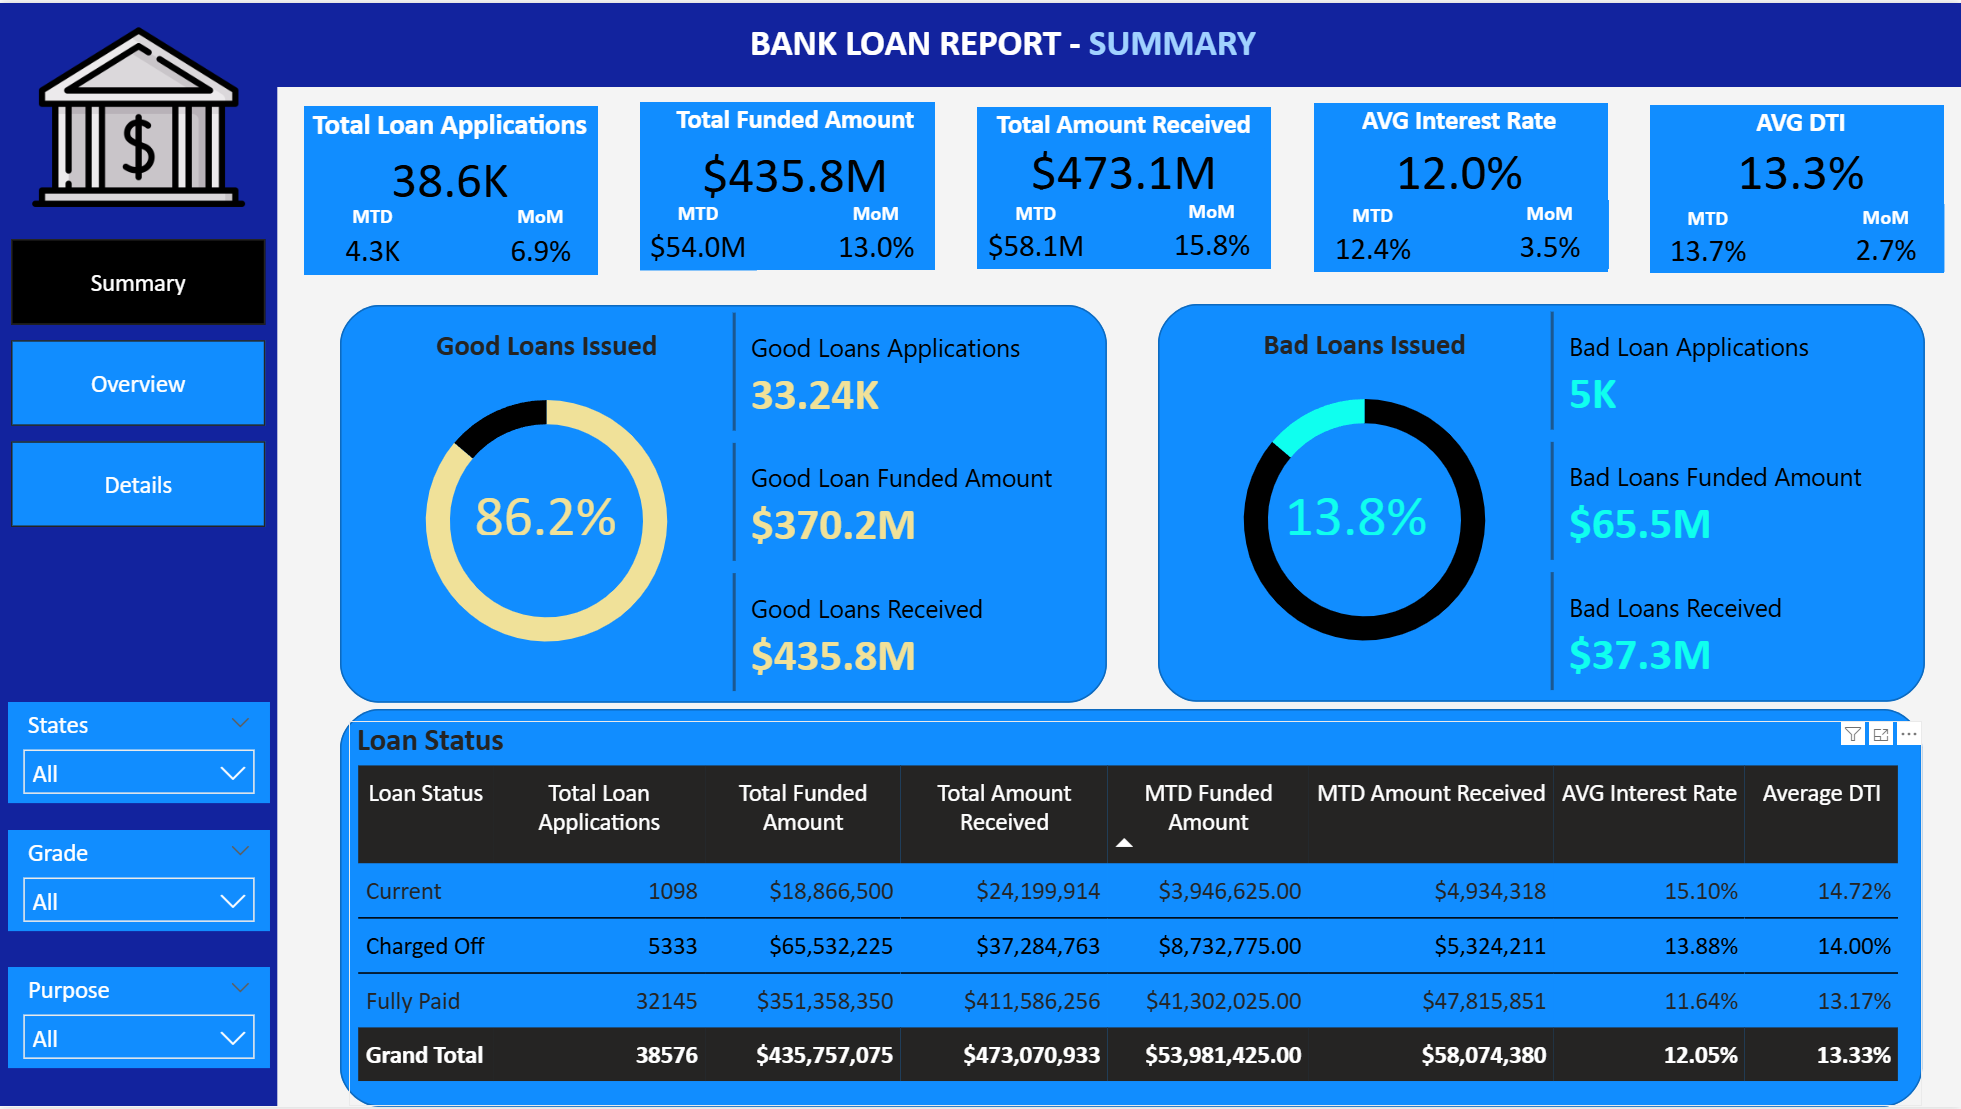

The dashboard page shown, as its layout file describes it:
{"tool":"powerbi","page":{"name":"Summary","canvas":[1280,720],"ordinal":0},"visuals":[{"type":"card","title":"Total Funded Amount","fields":{"Values":["bank_loan_data.Total Funded Amount"]},"box":[429.1,64.4,180.5,70],"z":0,"group":"g2"},{"type":"card","title":"AVG Interest Rate","fields":{"Values":["bank_loan_data.AVG Interest Rate"]},"box":[860.2,65.4,184.4,65],"z":0,"group":"g7"},{"type":"card","title":"AVG DTI","fields":{"Values":["bank_loan_data.Average DTI"]},"box":[1082.9,66.5,185.2,62.4],"z":0,"group":"g8"},{"type":"card","title":"Total Loan Applications","fields":{"Values":["bank_loan_data.Total Loan Applications"]},"box":[198.3,67.5,190.5,70],"z":0,"group":"g4"},{"type":"card","title":"Total Amount Received","fields":{"Values":["bank_loan_data.Total Amount Received"]},"box":[641.3,67.9,183.8,59.2],"z":0,"group":"g3"},{"type":"shape","box":[755.7,196.2,500.6,259.6],"z":0,"group":"g9"},{"type":"group","id":"g1","title":"Group 3","box":[221.7,196.9,501.9,259.6],"z":0},{"type":"shape","box":[221.7,196.9,500.6,259.6],"z":0,"group":"g1"},{"type":"card","title":"MTD","fields":{"Values":["bank_loan_data.MTD Amount Received"]},"box":[637.7,128.5,76.9,44.8],"z":1000,"group":"g3"},{"type":"card","title":"MTD","fields":{"Values":["bank_loan_data.MTD Funded Amount"]},"box":[418,128.6,75.9,45.8],"z":1000,"group":"g2"},{"type":"card","title":"MTD","fields":{"Values":["bank_loan_data.MTD AVG Interest Rate"]},"box":[857.5,130.2,76.7,45.2],"z":1000,"group":"g7"},{"type":"card","title":"MTD","fields":{"Values":["bank_loan_data.MTD Loan Applications"]},"box":[205.5,131.1,75.2,46.4],"z":1000,"group":"g4"},{"type":"card","title":"MTD","fields":{"Values":["bank_loan_data.MTD Average DTI"]},"box":[1077.2,132,75.6,44.5],"z":1000,"group":"g8"},{"type":"donutChart","title":"Bad Loans Issued","fields":{"Category":["bank_loan_data.Good v Bad Loans"],"Y":["bank_loan_data.Total Loan Applications"]},"box":[765.3,210.7,249.9,230],"z":1000,"group":"g9"},{"type":"donutChart","title":"Good Loans Issued","fields":{"Category":["bank_loan_data.Good v Bad Loans"],"Y":["bank_loan_data.Total Loan Applications"]},"box":[231.3,211.4,249.9,230],"z":1000,"group":"g1"},{"type":"shape","box":[221.7,460.6,1032.8,259.6],"z":1000},{"type":"shape","box":[0,0,1280,54.8],"z":2000},{"type":"card","title":"MoM","fields":{"Values":["bank_loan_data.MoM Amount Received"]},"box":[752.8,127.4,76.9,45.9],"z":2000,"group":"g3"},{"type":"card","title":"MoM","fields":{"Values":["bank_loan_data.MoM Funded Amount"]},"box":[534.1,128.3,75.9,45.2],"z":2000,"group":"g2"},{"type":"card","title":"MoM","fields":{"Values":["bank_loan_data.MoM AVG Interest Rate"]},"box":[972.8,128.5,76.7,45.2],"z":2000,"group":"g7"},{"type":"card","title":"MoM","fields":{"Values":["bank_loan_data.MoM Calculations"]},"box":[315.1,130.5,75.2,46.4],"z":2000,"group":"g4"},{"type":"card","title":"MoM","fields":{"Values":["bank_loan_data.MoM AVG DTI"]},"box":[1193.6,131.4,75.6,44.5],"z":2000,"group":"g8"},{"type":"cardVisual","fields":{"Data":["bank_loan_data.Good Loan Applications","bank_loan_data.Good Loan Funded Amount","bank_loan_data.Good Loan Received"]},"box":[473,196.9,250.6,259.6],"z":2000,"group":"g1"},{"type":"card","title":"AVG Interest Rate","fields":{"Values":["bank_loan_data.Good Loan %"]},"box":[302.3,313.3,108.1,38.6],"z":3000},{"type":"shape","box":[0,0,181.5,720],"z":4000},{"type":"group","id":"g2","title":"Group 2","box":[418,64.4,192,110],"z":4001,"group":"g5"},{"type":"group","id":"g3","title":"Group 2","box":[637.7,67.9,192,105.4],"z":4001,"group":"g6"},{"type":"textbox","box":[473,6.2,362.9,42],"z":5000},{"type":"group","id":"g4","title":"Group 1","box":[198.3,67.5,192,110],"z":6000},{"type":"group","id":"g5","title":"Group 1","box":[418,64.4,192,110],"z":7000},{"type":"group","id":"g6","title":"Group 1","box":[637.7,67.9,192,105.4],"z":8000},{"type":"group","id":"g7","title":"Group 1","box":[857.5,65.4,192,110],"z":9000},{"type":"group","id":"g8","title":"Group 1","box":[1077.2,66.5,192,110],"z":10000},{"type":"group","id":"g9","title":"Group 3","box":[755.7,196.2,501.9,259.6],"z":11000},{"type":"cardVisual","fields":{"Data":["bank_loan_data.Bad Loan Applications","bank_loan_data.Bad Loan Funded Amount","bank_loan_data.Bad Loan Received"]},"box":[1007,196.2,250.6,259.6],"z":11001,"group":"g9"},{"type":"card","title":"AVG Interest Rate","fields":{"Values":["bank_loan_data.Bad Loan %"]},"box":[833.1,313.3,104.7,38.6],"z":12000},{"type":"tableEx","title":"Loan Status","fields":{"Values":["bank_loan_data.loan_status","bank_loan_data.Total Loan Applications","bank_loan_data.Total Funded Amount","bank_loan_data.Total Amount Received","bank_loan_data.MTD Funded Amount","bank_loan_data.MTD Amount Received","bank_loan_data.AVG Interest Rate","bank_loan_data.Average DTI"]},"box":[227.9,468.9,1026.6,251.3],"z":13000},{"type":"slicer","fields":{"Values":["bank_loan_data.address_state"]},"box":[5.5,456.5,170.8,66.1],"z":14000},{"type":"slicer","fields":{"Values":["bank_loan_data.grade"]},"box":[5.5,539.8,170.8,66.1],"z":15000},{"type":"slicer","fields":{"Values":["bank_loan_data.purpose"]},"box":[5.5,629.3,170.8,66.1],"z":16000},{"type":"image","box":[0,0,181.5,149.5],"z":17000},{"type":"pageNavigator","box":[7.2,154,166.4,189.9],"z":18000}]}

Visuals, with their boxes in screenshot pixels (x1, y1, x2, y2), scaled from the page's 1280x720 canvas onto the 1961x1109 screenshot:
"Total Funded Amount" card: locate(657, 99, 934, 207)
"AVG Interest Rate" card: locate(1318, 101, 1600, 201)
"AVG DTI" card: locate(1659, 102, 1943, 199)
"Total Loan Applications" card: locate(304, 104, 596, 212)
"Total Amount Received" card: locate(982, 105, 1264, 196)
shape: locate(1158, 302, 1925, 702)
"Group 3" group: locate(340, 303, 1109, 703)
shape: locate(340, 303, 1107, 703)
"MTD" card: locate(977, 198, 1095, 267)
"MTD" card: locate(640, 198, 757, 269)
"MTD" card: locate(1314, 201, 1431, 270)
"MTD" card: locate(315, 202, 430, 273)
"MTD" card: locate(1650, 203, 1766, 272)
"Bad Loans Issued" donutChart: locate(1172, 325, 1555, 679)
"Good Loans Issued" donutChart: locate(354, 326, 737, 680)
shape: locate(340, 709, 1922, 1108)
shape: locate(0, 0, 1960, 84)
"MoM" card: locate(1153, 196, 1271, 267)
"MoM" card: locate(818, 198, 935, 267)
"MoM" card: locate(1490, 198, 1608, 268)
"MoM" card: locate(483, 201, 598, 272)
"MoM" card: locate(1829, 202, 1944, 271)
cardVisual - bank_loan_data.Good Loan Applications x bank_loan_data.Good Loan Funded Amount: locate(725, 303, 1109, 703)
"AVG Interest Rate" card: locate(463, 483, 629, 542)
shape: locate(0, 0, 278, 1108)
"Group 2" group: locate(640, 99, 935, 269)
"Group 2" group: locate(977, 105, 1271, 267)
textbox: locate(725, 10, 1281, 74)
"Group 1" group: locate(304, 104, 598, 273)
"Group 1" group: locate(640, 99, 935, 269)
"Group 1" group: locate(977, 105, 1271, 267)
"Group 1" group: locate(1314, 101, 1608, 270)
"Group 1" group: locate(1650, 102, 1944, 272)
"Group 3" group: locate(1158, 302, 1927, 702)
cardVisual - bank_loan_data.Bad Loan Applications x bank_loan_data.Bad Loan Funded Amount: locate(1543, 302, 1927, 702)
"AVG Interest Rate" card: locate(1276, 483, 1437, 542)
"Loan Status" tableEx: locate(349, 722, 1922, 1108)
slicer - bank_loan_data.address_state: locate(8, 703, 270, 805)
slicer - bank_loan_data.grade: locate(8, 831, 270, 933)
slicer - bank_loan_data.purpose: locate(8, 969, 270, 1071)
image: locate(0, 0, 278, 230)
pageNavigator: locate(11, 237, 266, 530)
